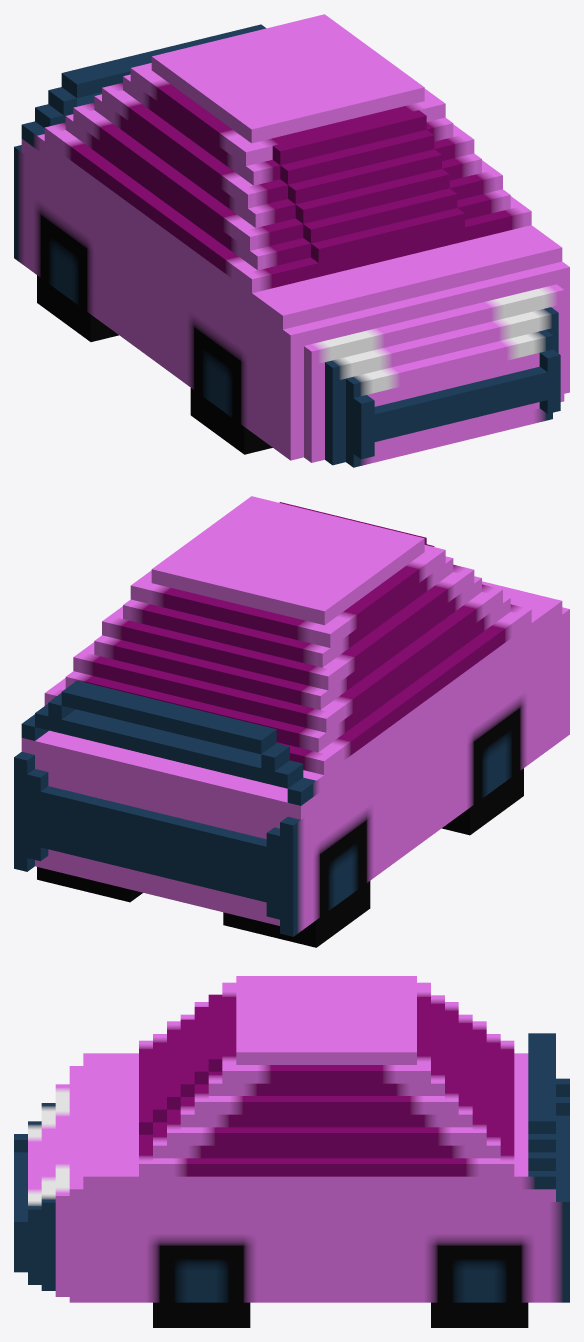
The model's file is Car_16.fbx.
The picture shows the model from 3 angles, top to bottom: view 1: azimuth 30°, elevation 25°; view 2: azimuth 150°, elevation 25°; view 3: azimuth 270°, elevation 25°; orthographic projection. The views are drawn at different scales.
Parts seen in each view (by area): view 1: Car_16; view 2: Car_16; view 3: Car_16.
Part boxes in pixels (<box>): Car_16: <box>14,14,569,467</box>; Car_16: <box>14,496,569,947</box>; Car_16: <box>14,976,569,1327</box>.
Size of the model in its own units: 21 by 20 by 40.
1 material, 1 textured.
